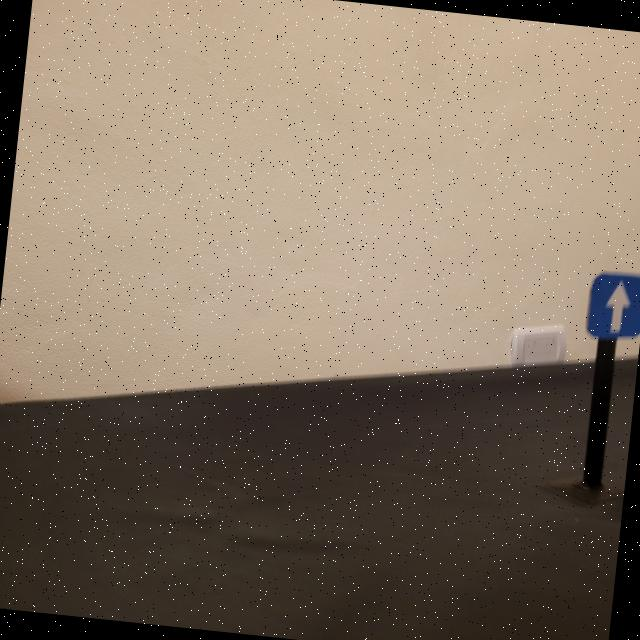one_way: (583, 268, 640, 342)
